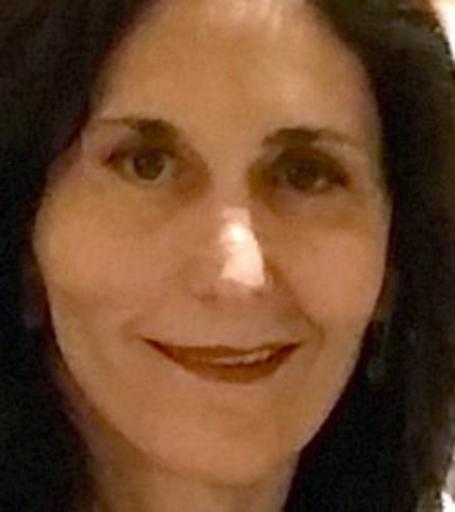left_eye: (266, 153, 352, 200)
left_lip_corner: (276, 333, 310, 364)
right_eye: (97, 144, 195, 187)
right_lip_corner: (129, 326, 168, 365)
